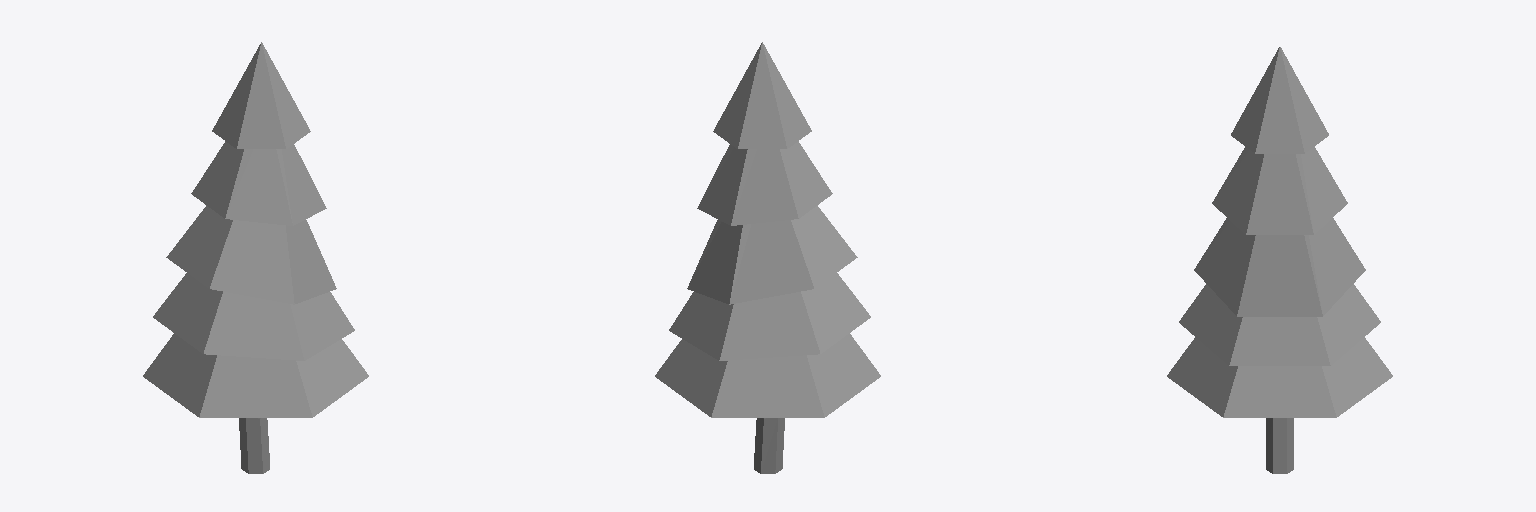
The model's file is boom2.obj.
3 views of the same model, side by side, from view 1: azimuth 30°, elevation 25°; view 2: azimuth 150°, elevation 25°; view 3: azimuth 270°, elevation 25° (orthographic).
Parts seen in each view (by area): view 1: Tree_Type1_04_mesh; view 2: Tree_Type1_04_mesh; view 3: Tree_Type1_04_mesh.
Boxes of the visible parts, box(x1,y1,x2,y2) form: Tree_Type1_04_mesh: box(143, 42, 368, 473); Tree_Type1_04_mesh: box(655, 42, 880, 473); Tree_Type1_04_mesh: box(1167, 47, 1392, 473).
Bounding box in the file's own units: 184 × 439 × 212.